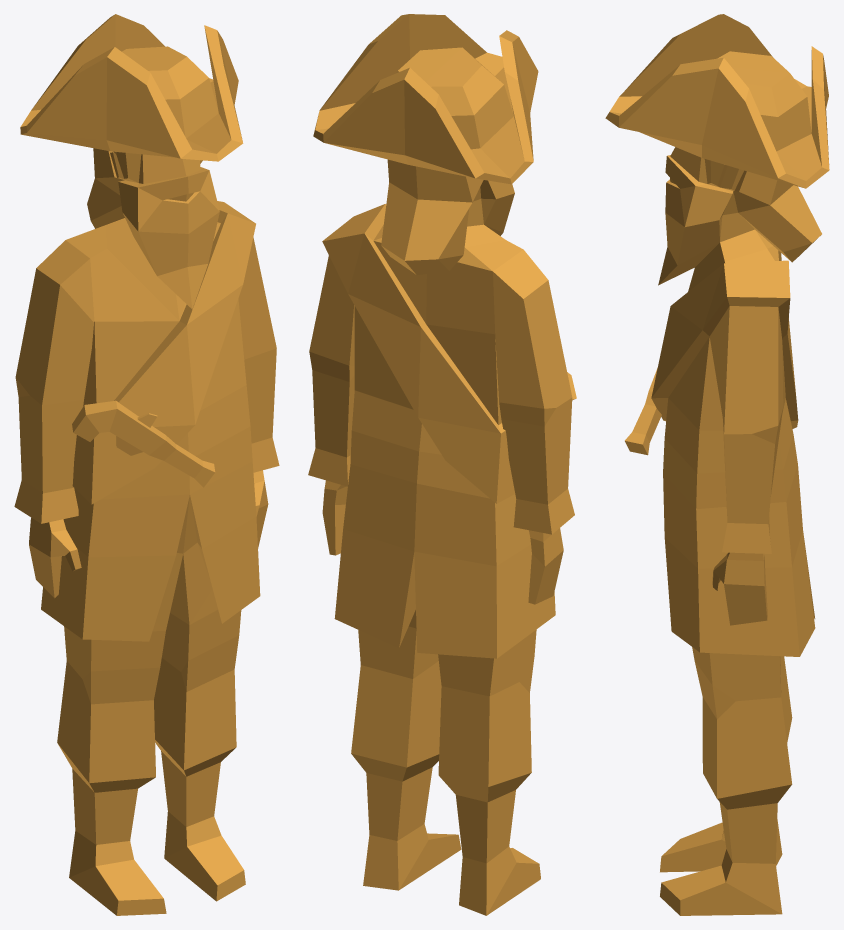
The model's file is man-pirate-captain.fbx.
3 views of the same model, side by side, from view 1: azimuth 30°, elevation 25°; view 2: azimuth 150°, elevation 25°; view 3: azimuth 270°, elevation 25° (orthographic).
Visible parts, largest first — view 1: man-pirate-captain; view 2: man-pirate-captain; view 3: man-pirate-captain.
Boxes of the visible parts, x1,y1,x2,y2 form: man-pirate-captain: (14, 14, 279, 915); man-pirate-captain: (308, 14, 576, 915); man-pirate-captain: (605, 14, 829, 915).
Size of the model in its own units: 0.5839 by 1.95 by 0.4677.
